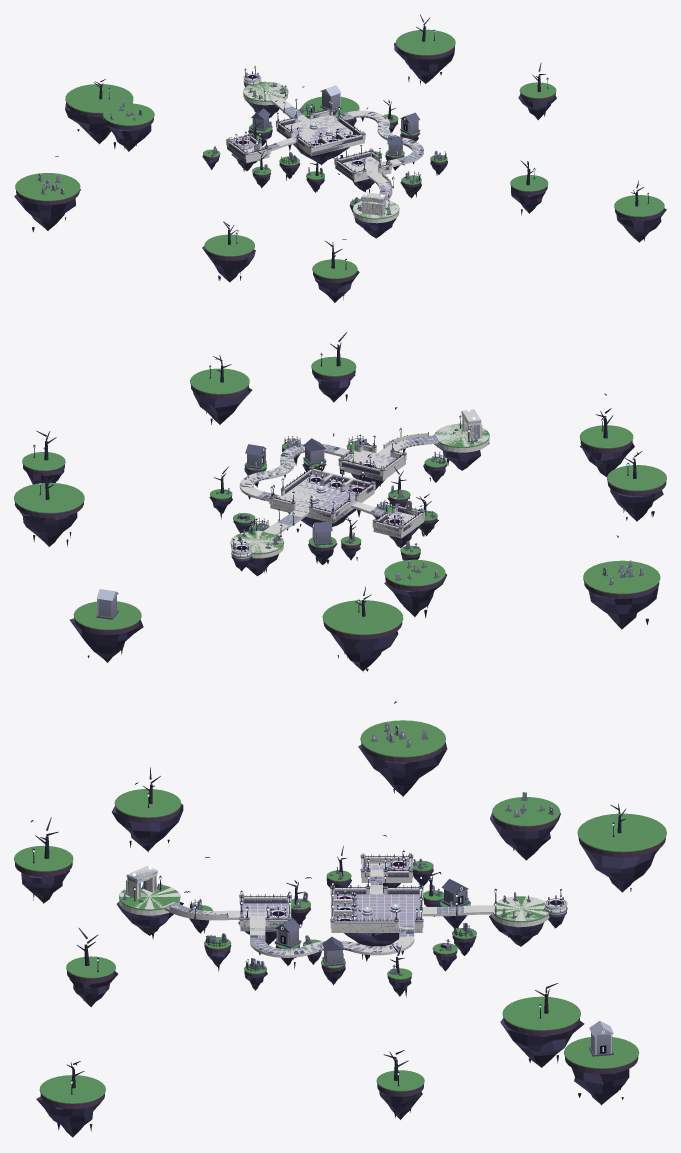
3 renders of one model, top to bottom at view 1: azimuth 30°, elevation 25°; view 2: azimuth 150°, elevation 25°; view 3: azimuth 270°, elevation 25°, orthographic. The views are drawn at different scales.
Parts seen in each view (by area): view 1: V_moss, V_rock, C_0, V_stone, V_dirt, V_stone_dark, V_iron, V_beam_dark, V_flag, V_stone_light, C_1; view 2: V_moss, V_rock, C_0, V_stone, V_dirt, V_stone_dark, V_iron, V_beam_dark, V_flag, V_stone_light; view 3: V_moss, V_rock, C_0, V_stone, V_dirt, V_stone_dark, V_flag, V_iron, V_beam_dark, V_stone_light, C_1.
Boxes of the visible parts, box(x1,y1,x2,y2) form: V_moss: box(15, 29, 664, 278); V_rock: box(14, 42, 666, 302); C_0: box(226, 73, 423, 223); V_stone: box(38, 82, 440, 214); V_dirt: box(16, 46, 663, 282); V_stone_dark: box(37, 71, 441, 215); V_iron: box(108, 29, 648, 269); V_beam_dark: box(93, 14, 643, 268); V_flag: box(250, 115, 383, 174); V_stone_light: box(228, 74, 386, 201); C_1: box(362, 192, 385, 215); V_moss: box(14, 356, 666, 634); V_rock: box(14, 374, 663, 672); C_0: box(231, 424, 489, 558); V_stone: box(98, 409, 643, 617); V_dirt: box(15, 369, 666, 639); V_stone_dark: box(96, 437, 643, 619); V_iron: box(33, 353, 629, 612); V_beam_dark: box(36, 332, 642, 616); V_flag: box(284, 451, 414, 522); V_stone_light: box(96, 411, 481, 600); V_moss: box(14, 720, 666, 1103); V_rock: box(21, 742, 659, 1137); C_0: box(119, 857, 566, 957); V_stone: box(124, 722, 612, 1053); V_dirt: box(15, 743, 665, 1109); V_stone_dark: box(122, 730, 613, 1056); V_flag: box(242, 865, 420, 926); V_iron: box(32, 792, 614, 1094); V_beam_dark: box(35, 767, 626, 1088); V_stone_light: box(126, 860, 613, 1035); C_1: box(126, 866, 157, 899).
Bounding box in the file's own units: 160 × 39.02 × 129.
